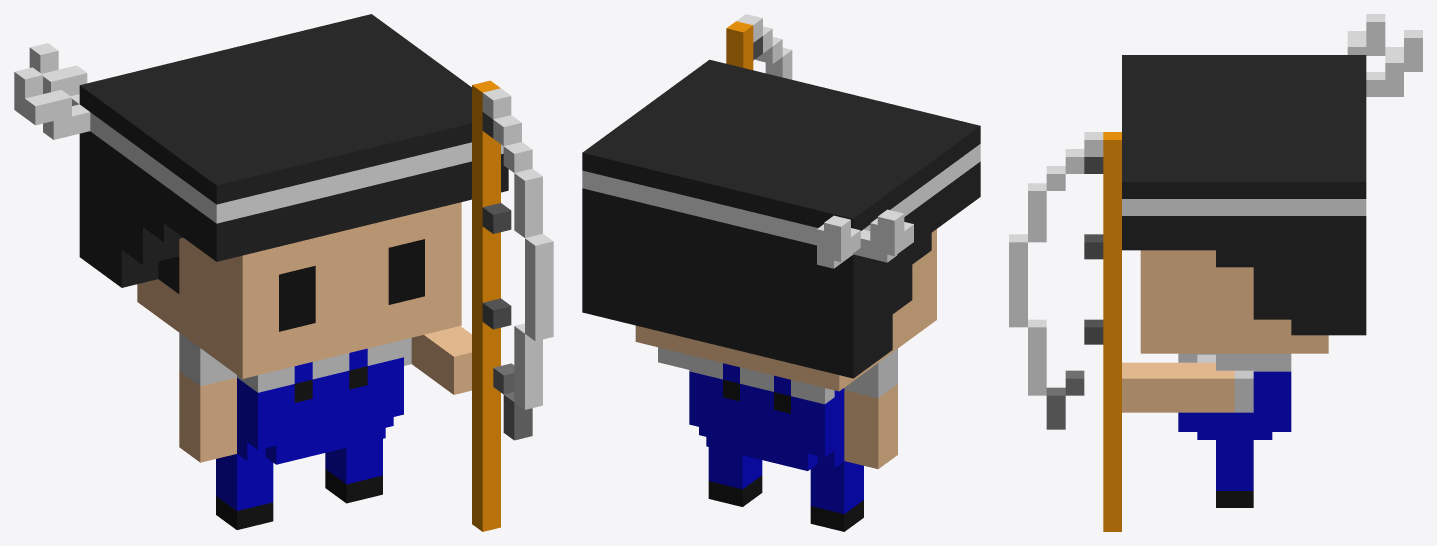
File: fisherman.glb
3 views of the same model, side by side, from view 1: azimuth 30°, elevation 25°; view 2: azimuth 150°, elevation 25°; view 3: azimuth 270°, elevation 25° (orthographic). The views are drawn at different scales.
Visible parts, largest first — view 1: Node; view 2: Node; view 3: Node.
Part boxes in pixels (box(x1,y1,x2,y2)): Node: box(14, 14, 553, 531); Node: box(582, 14, 980, 531); Node: box(1009, 14, 1422, 531).
Bounding box in the file's own units: 1.9 × 2.3 × 2.2.
1 material, 1 textured.
